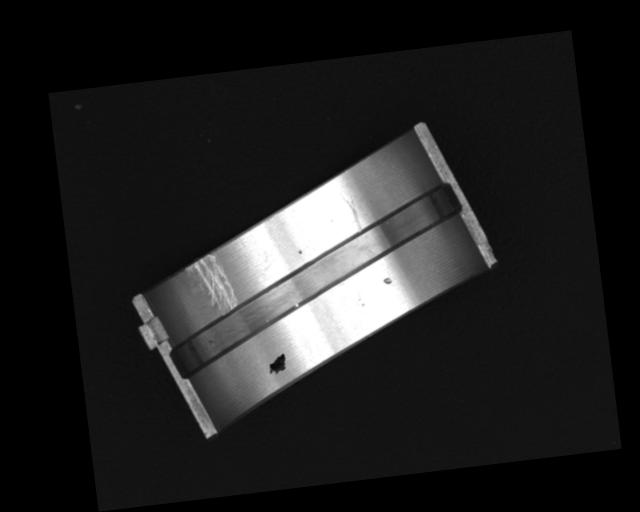blot: (265, 352, 288, 375)
bruise: (383, 276, 392, 285), (297, 250, 302, 256)
gap: (156, 180, 479, 379)
nick: (340, 191, 362, 234)
scratch: (184, 252, 237, 315)
